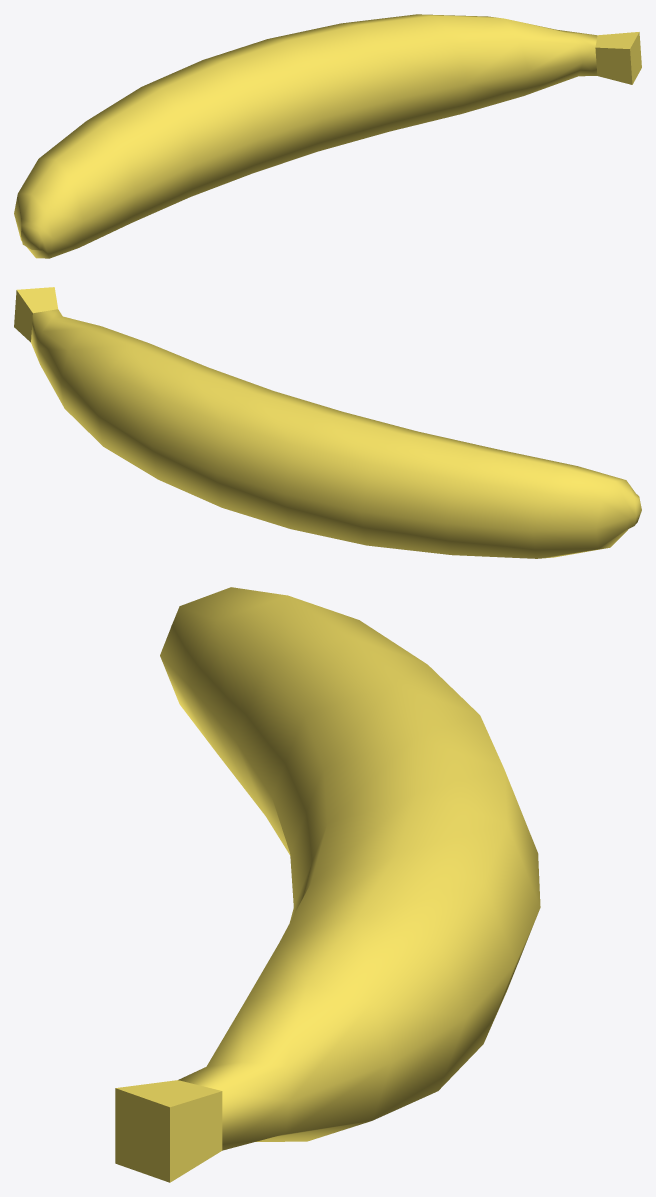
The model's file is 09_fruit_banana.glb.
The picture shows the model from 3 angles, top to bottom: view 1: azimuth 30°, elevation 25°; view 2: azimuth 150°, elevation 25°; view 3: azimuth 270°, elevation 25°; orthographic projection. The views are drawn at different scales.
Parts seen in each view (by area): view 1: Fruit_Banana; view 2: Fruit_Banana; view 3: Fruit_Banana.
Boxes of the visible parts, x1,y1,x2,y2 form: Fruit_Banana: (14,14,641,258); Fruit_Banana: (14,287,641,558); Fruit_Banana: (115,587,540,1182).
Size of the model in its own units: 0.2562 by 0.0497 by 0.0772.
